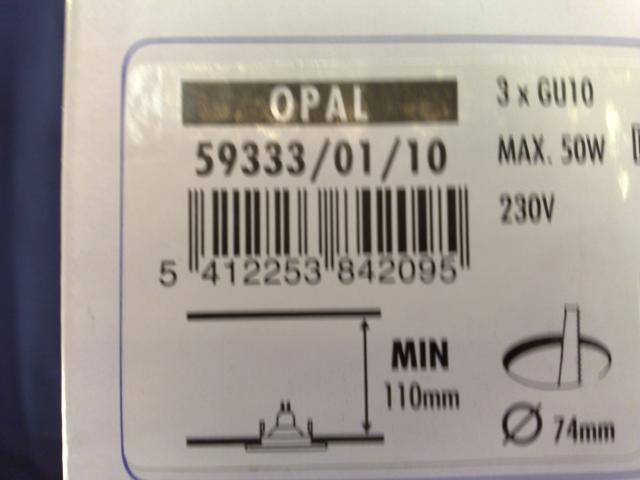Barcode: (142, 179, 491, 303)
